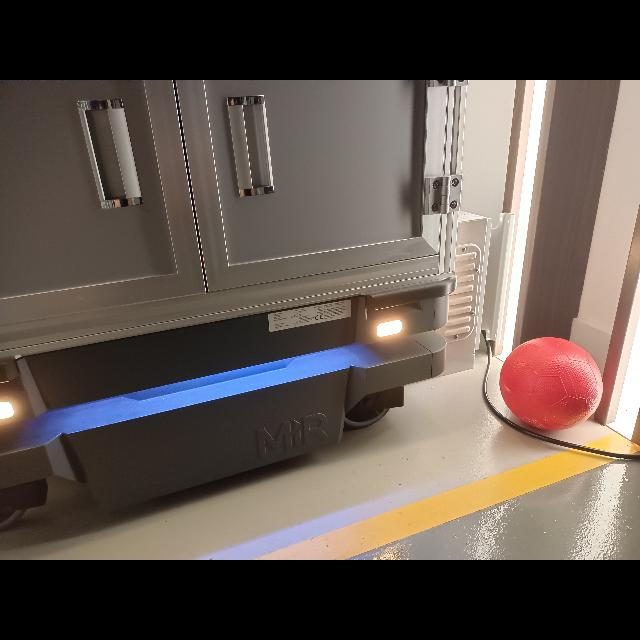R: (500, 336, 604, 436)
